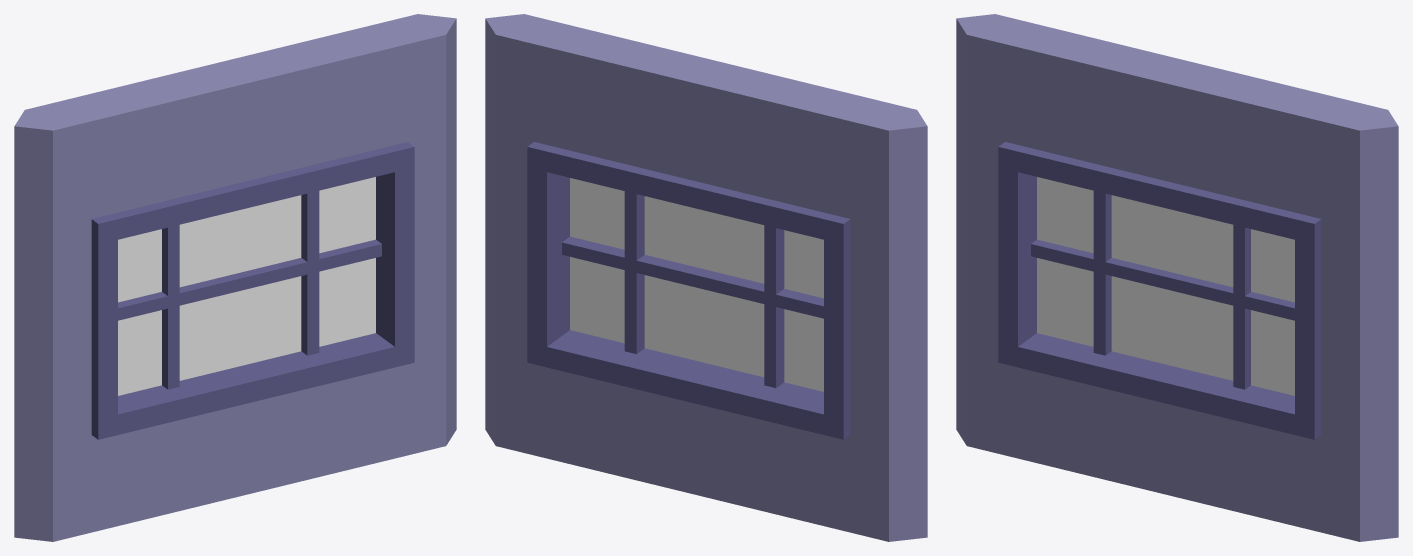
File: window_decorativeLarge.fbx
3 renders of one model, left to right at view 1: azimuth 30°, elevation 25°; view 2: azimuth 150°, elevation 25°; view 3: azimuth 330°, elevation 25°, orthographic.
Parts seen in each view (by area): view 1: window_decorativeLarge; view 2: window_decorativeLarge; view 3: window_decorativeLarge.
Part boxes in pixels (x1,y1,x2,y2): window_decorativeLarge: [14, 14, 456, 541]; window_decorativeLarge: [485, 14, 927, 541]; window_decorativeLarge: [956, 14, 1398, 541].
Size of the model in its own units: 11.25 by 10 by 1.85.
